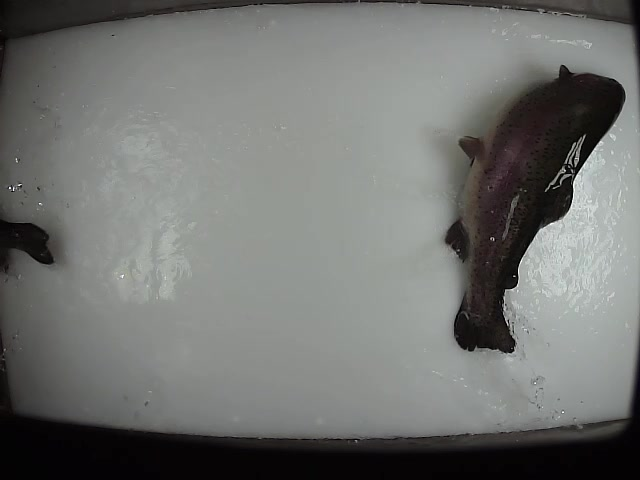fish: (443, 63, 627, 354)
